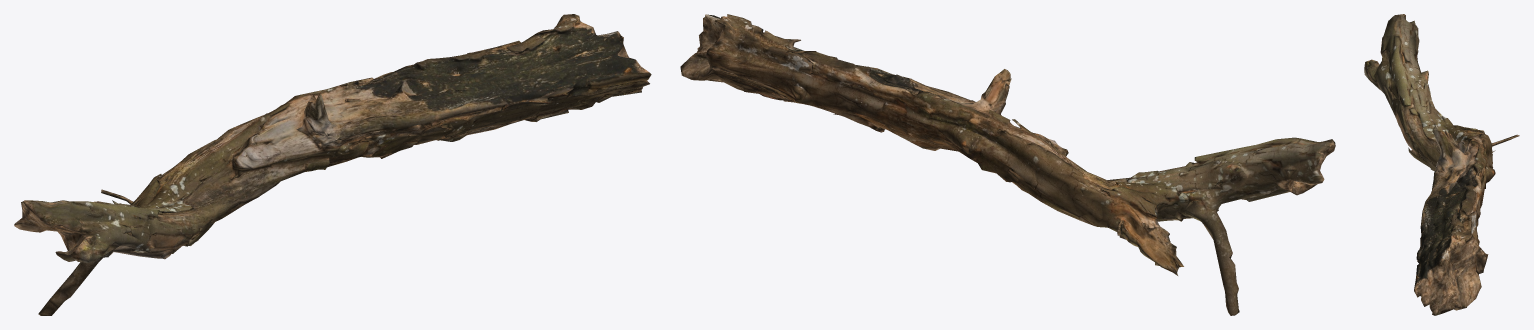
File: dead_tree_trunk_02_lo.glb
The picture shows the model from 3 angles, left to right: view 1: azimuth 30°, elevation 25°; view 2: azimuth 150°, elevation 25°; view 3: azimuth 270°, elevation 25°; orthographic projection. The views are drawn at different scales.
Parts seen in each view (by area): view 1: dead_tree_trunk_02; view 2: dead_tree_trunk_02; view 3: dead_tree_trunk_02.
Boxes of the visible parts, bbox=[...] form: dead_tree_trunk_02: bbox=[14, 14, 651, 315]; dead_tree_trunk_02: bbox=[680, 14, 1335, 315]; dead_tree_trunk_02: bbox=[1364, 14, 1519, 315].
Bounding box in the file's own units: 4.05 × 1.05 × 1.04.
Materials: 1 (1 with a texture image).
